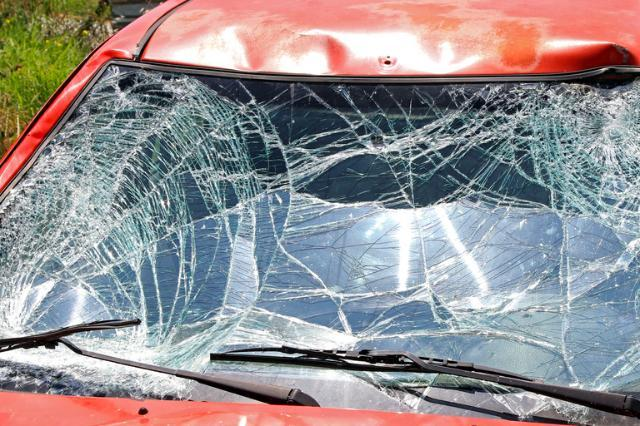Windshield: (0, 61, 640, 382)
